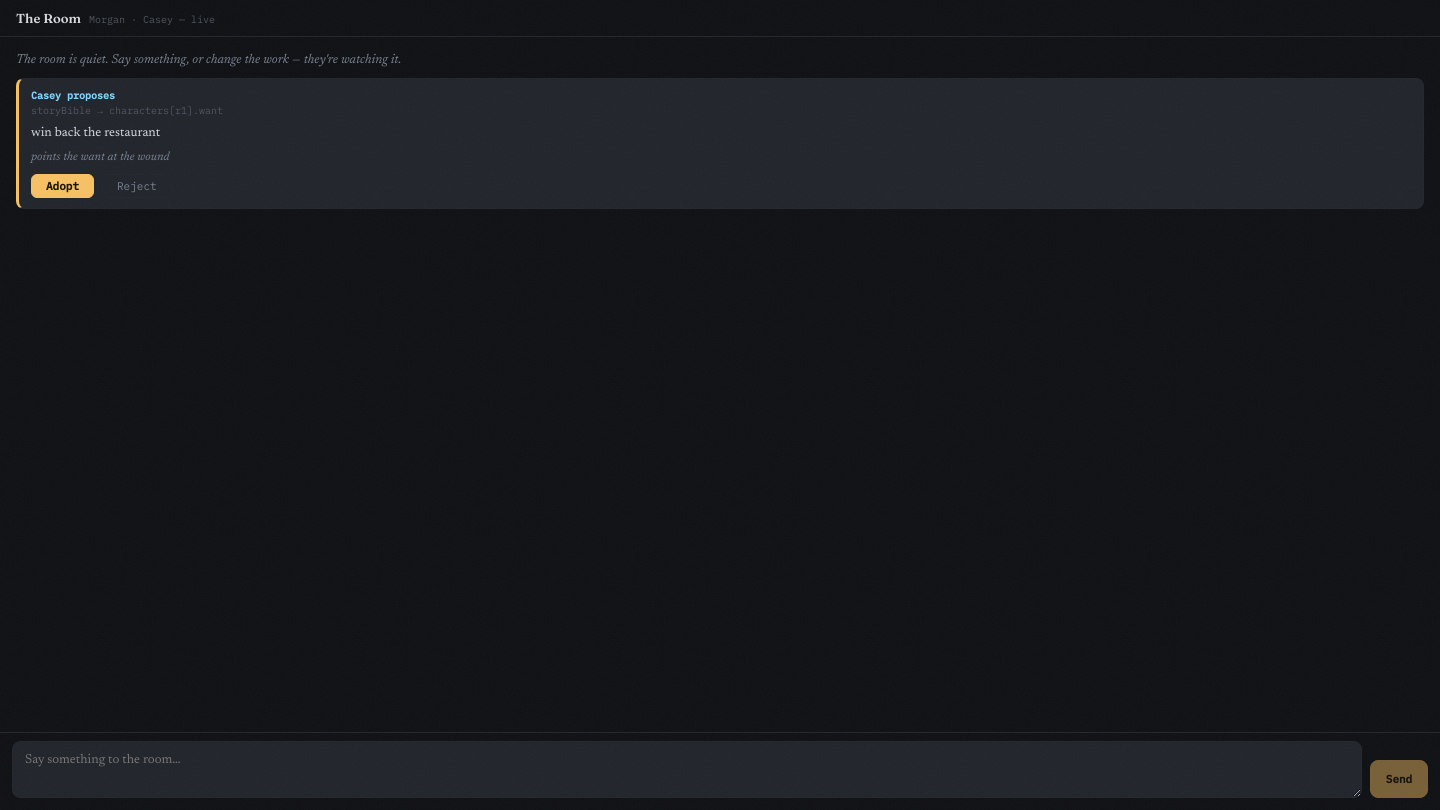
Test case: RoomChannel proposal adoption ordering › does NOT write the document when the server resolve fails
Click the button "Adopt" at (62, 186), box [31,174,94,198]
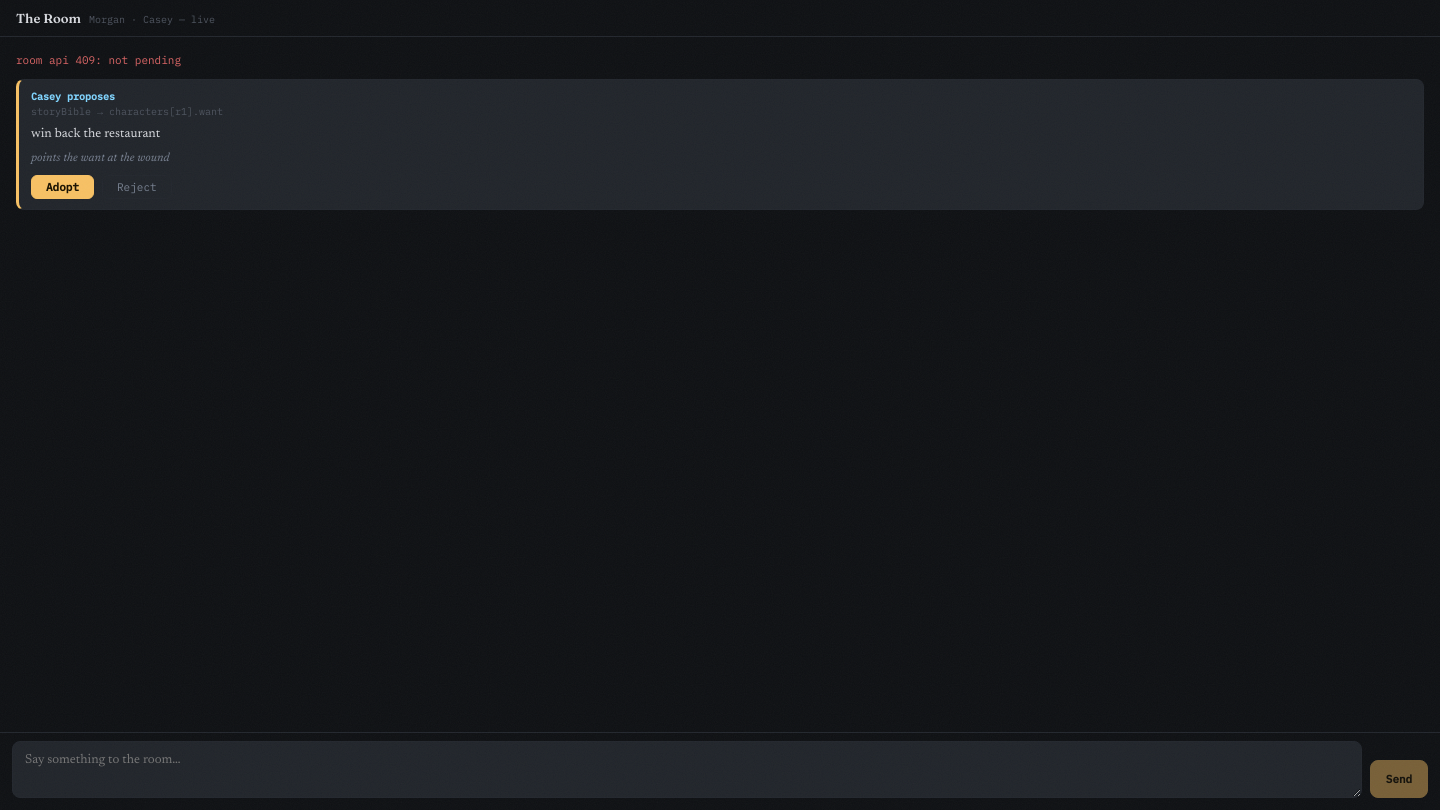
Expected: the text "room api 409: not pending" is shown, [16,53,181,67]
